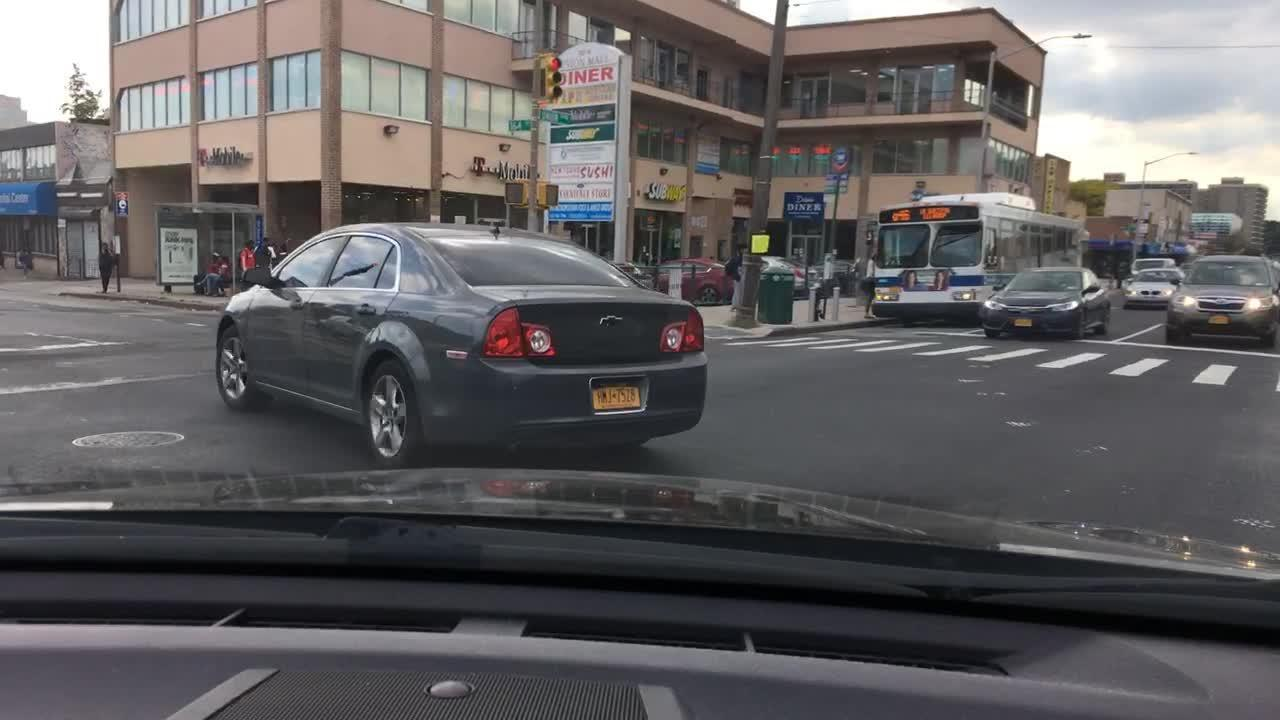chevrolet: (590, 305, 631, 334)
